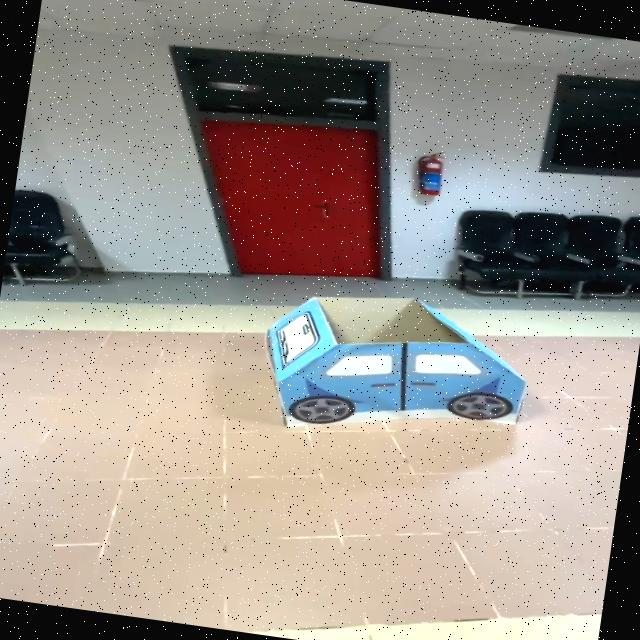blue_car: (214, 268, 574, 478)
